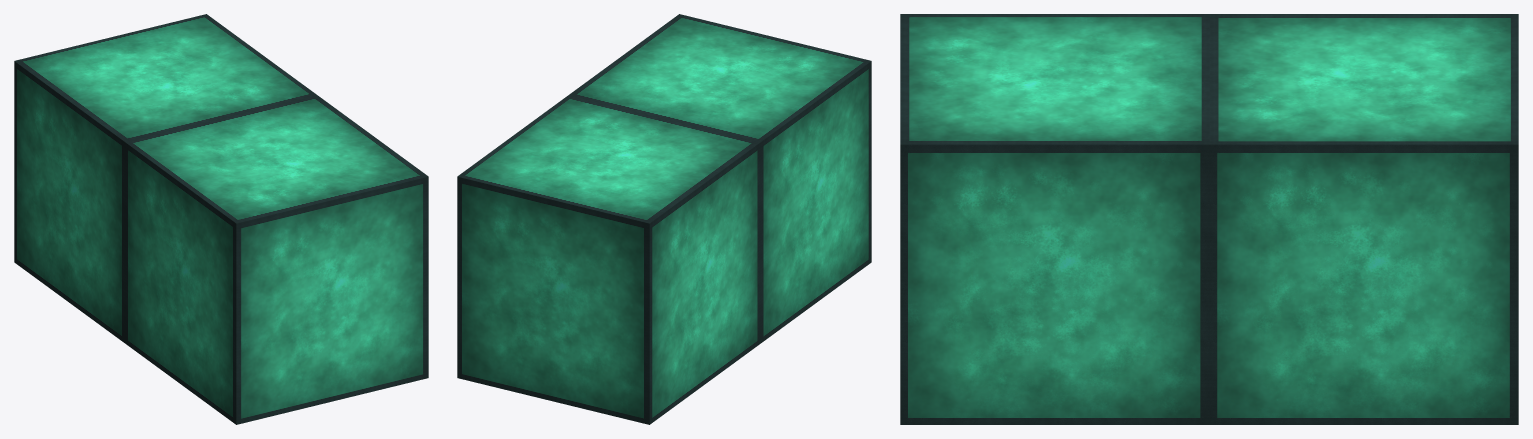
File: MoveScaffoldStage3.glb
3 views of the same model, side by side, from view 1: azimuth 30°, elevation 25°; view 2: azimuth 150°, elevation 25°; view 3: azimuth 270°, elevation 25° (orthographic). The views are drawn at different scales.
Visible parts, largest first — view 1: MoveScaffoldStage0_0.003; view 2: MoveScaffoldStage0_0.003; view 3: MoveScaffoldStage0_0.003.
Boxes of the visible parts, x1,y1,x2,y2 form: MoveScaffoldStage0_0.003: (14,14,428,424); MoveScaffoldStage0_0.003: (457,14,871,424); MoveScaffoldStage0_0.003: (900,14,1518,424).
Size of the model in its own units: 20 by 20 by 40.
Materials: 1 (1 with a texture image).
